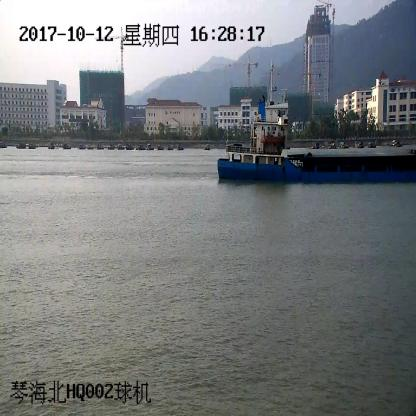Bulk Carrier: (218, 66, 416, 185)
